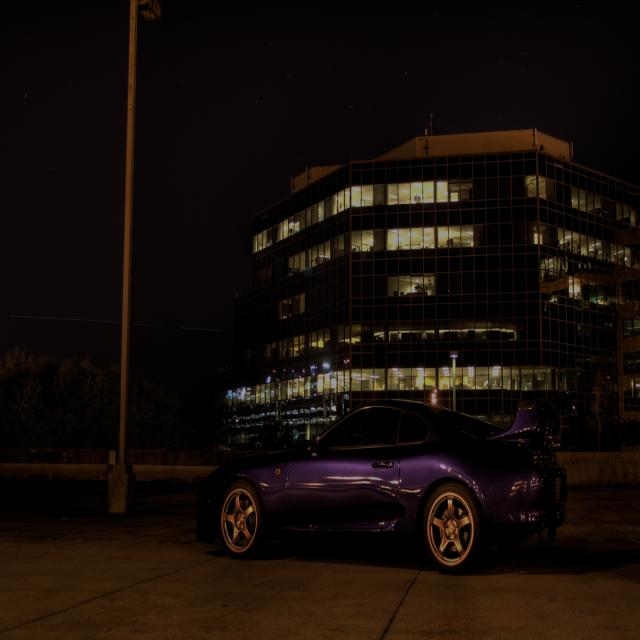Car: (195, 354, 586, 640)
